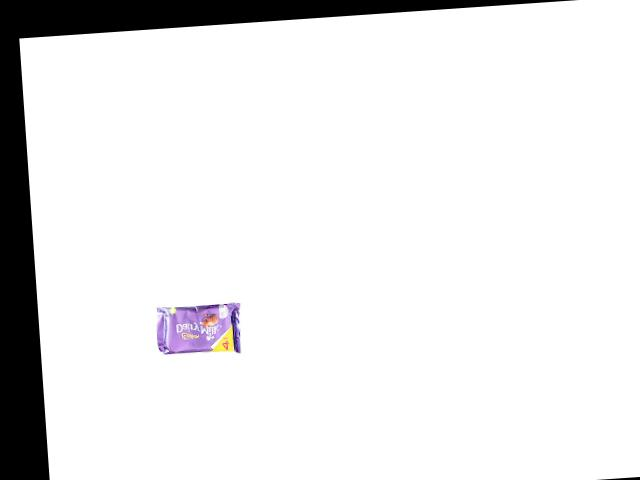chocolate: (151, 294, 253, 358)
